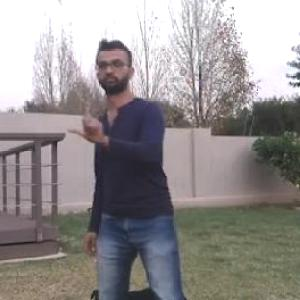land_hand: (66, 100, 107, 147)
